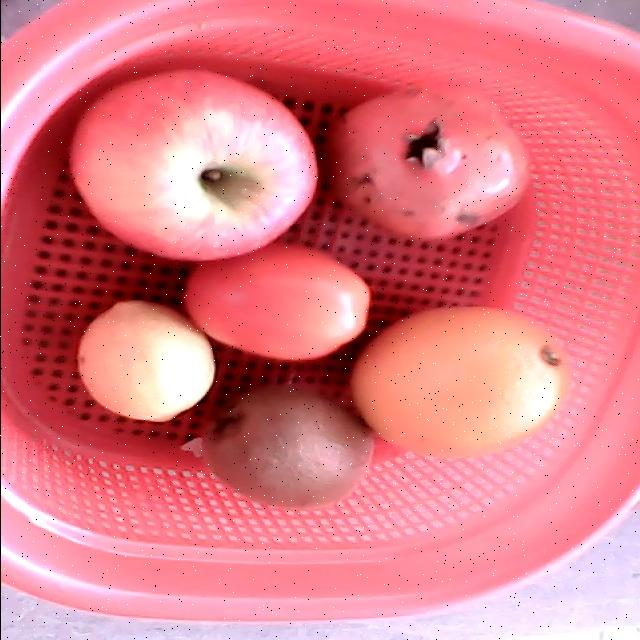apple: (70, 68, 315, 262)
kiwi: (200, 385, 373, 511)
lemon: (77, 302, 214, 423)
orange: (353, 306, 570, 460)
pomegranate: (327, 82, 533, 241)
tomato: (183, 242, 371, 358)
